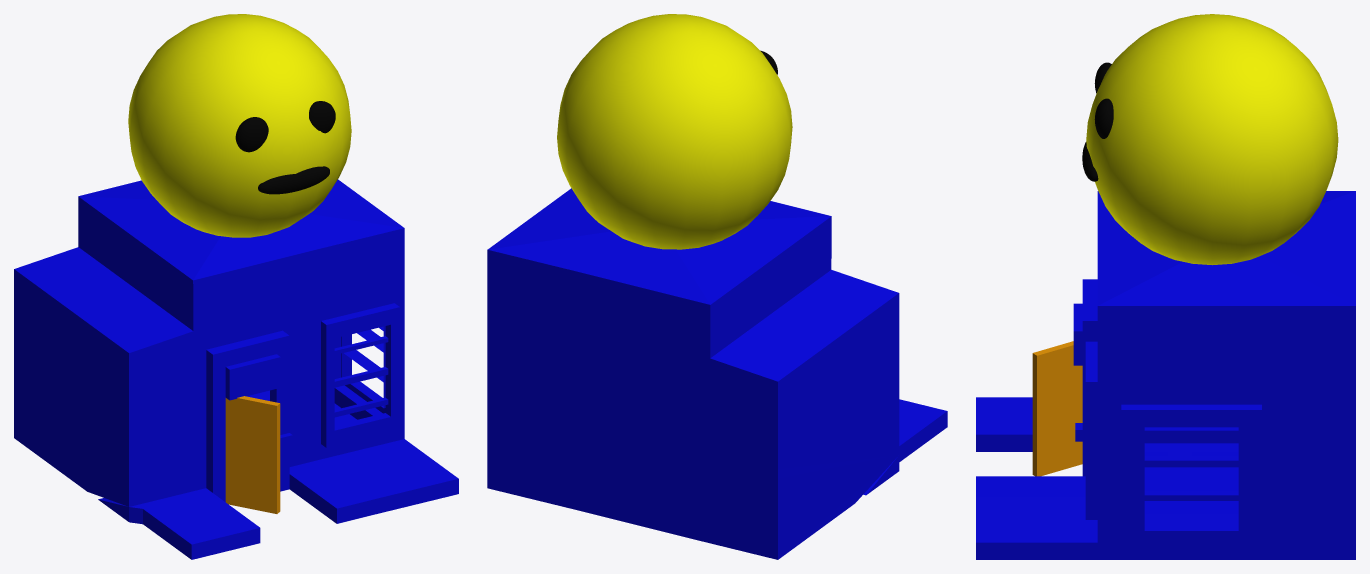
File: G1_homeModel.fbx
3 renders of one model, left to right at view 1: azimuth 30°, elevation 25°; view 2: azimuth 150°, elevation 25°; view 3: azimuth 270°, elevation 25°, orthographic. The views are drawn at different scales.
Parts seen in each view (by area): view 1: pCube1, pSphere3, pCube2, pSphere5, pSphere4, pSphere2; view 2: pCube1, pSphere3; view 3: pCube1, pSphere3, pCube2, pSphere2.
Part boxes in pixels (x1,y1,x2,y2): pCube1: (14,179,458,559); pSphere3: (128,14,351,237); pCube2: (225,396,280,513); pSphere5: (258,166,329,194); pSphere4: (235,117,268,152); pSphere2: (309,101,335,133); pCube1: (487,188,947,559); pSphere3: (557,14,792,249); pCube1: (976,191,1355,559); pSphere3: (1086,14,1338,265); pCube2: (1032,341,1082,476); pSphere2: (1094,98,1113,138).
Size of the model in its own units: 9.36 by 13.19 by 9.6.
